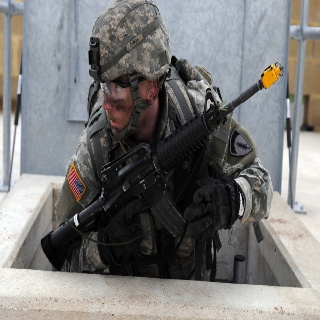rifle: (40, 62, 287, 273)
